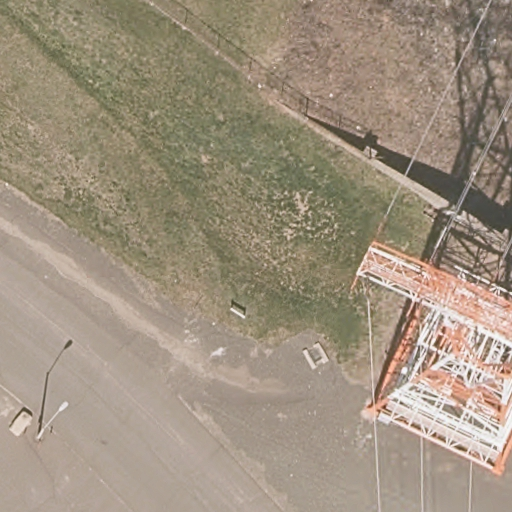TT: (351, 239, 512, 478)
